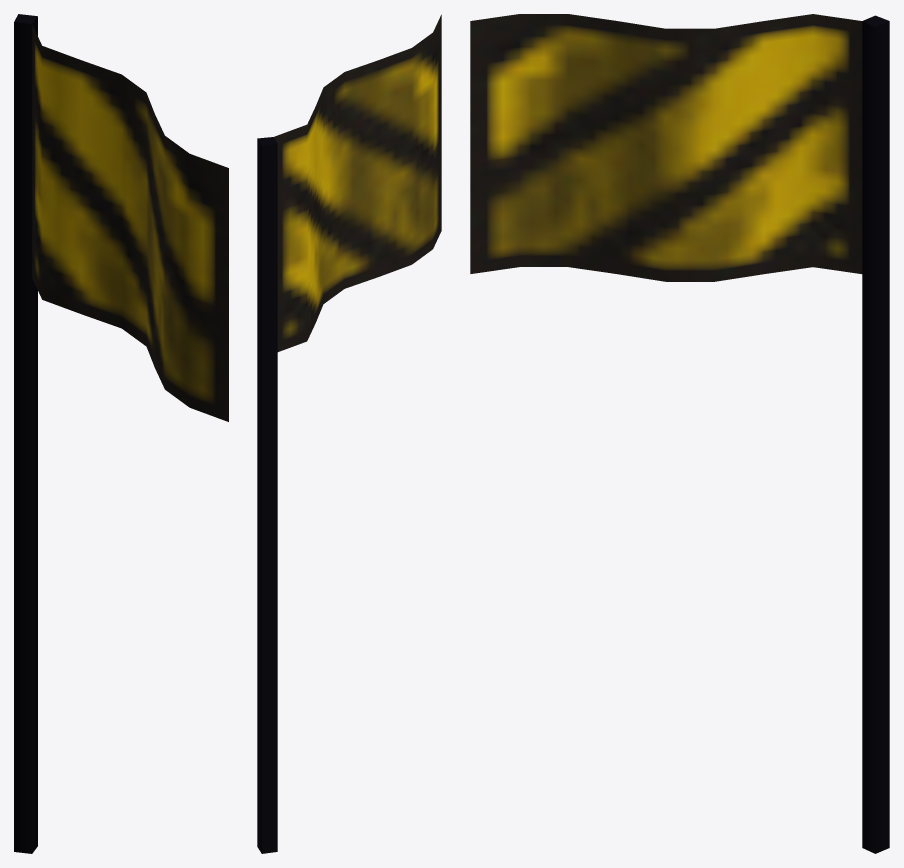
The model's file is prop-028.glb.
The picture shows the model from 3 angles, left to right: view 1: azimuth 30°, elevation 25°; view 2: azimuth 150°, elevation 25°; view 3: azimuth 270°, elevation 25°; orthographic projection. The views are drawn at different scales.
Visible parts, largest first — view 1: root; view 2: root; view 3: root.
Boxes of the visible parts, <box> form: root: <box>14,14,228,853</box>; root: <box>257,14,441,853</box>; root: <box>470,14,889,853</box>.
Bounding box in the file's own units: 0.0566 × 1.49 × 0.6836.
2 materials, 2 textured.
